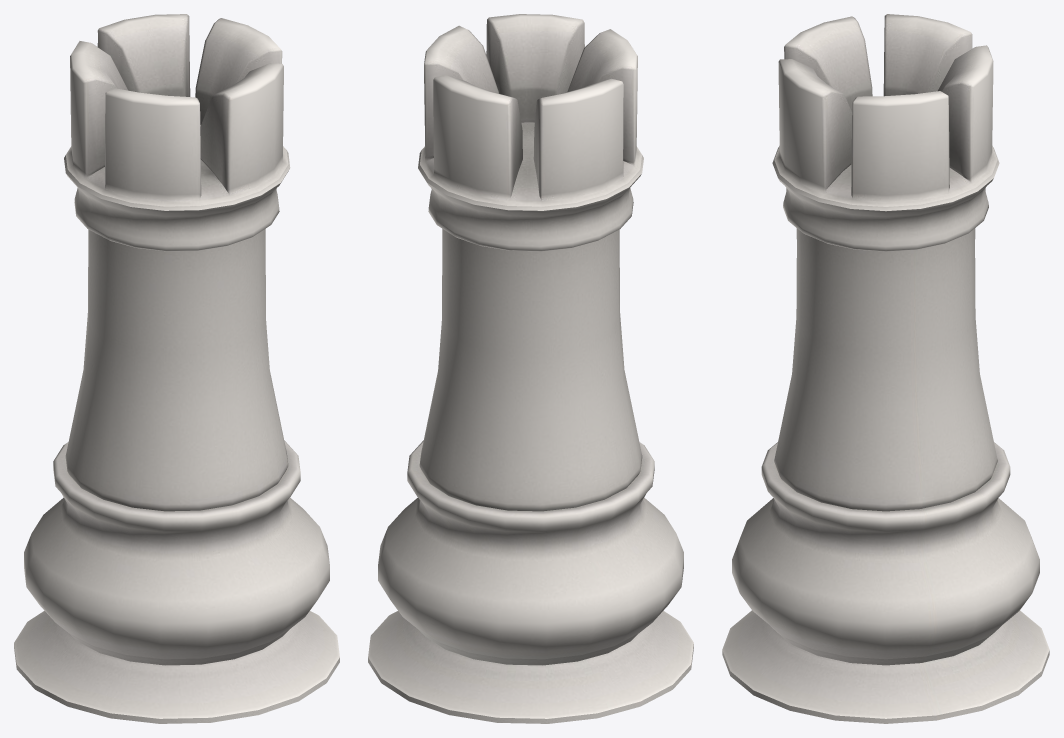
The model's file is White_Rook.dae.
3 renders of one model, left to right at view 1: azimuth 30°, elevation 25°; view 2: azimuth 150°, elevation 25°; view 3: azimuth 270°, elevation 25°, orthographic.
Visible parts, largest first — view 1: Rook; view 2: Rook; view 3: Rook.
Part boxes in pixels (x1,y1,x2,y2): Rook: (14,14,339,723); Rook: (368,14,693,723); Rook: (722,14,1049,723).
Bounding box in the file's own units: 1.62 × 3.26 × 1.62.
